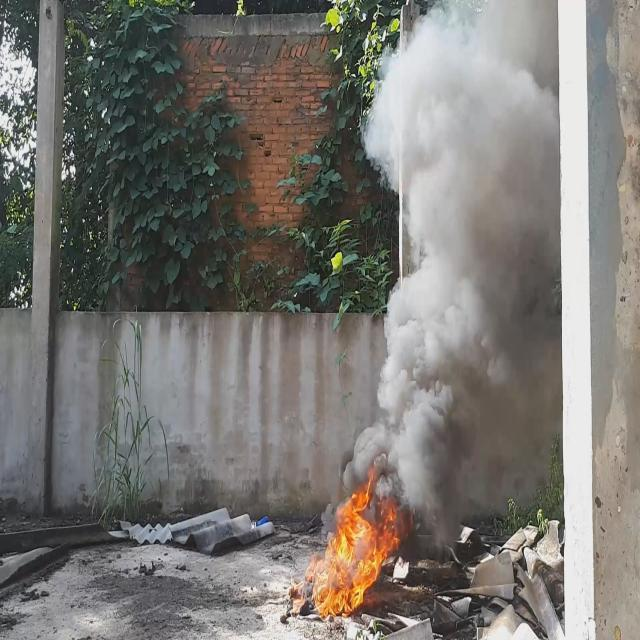Fire: (312, 456, 406, 620)
Smoke: (346, 0, 560, 532)
